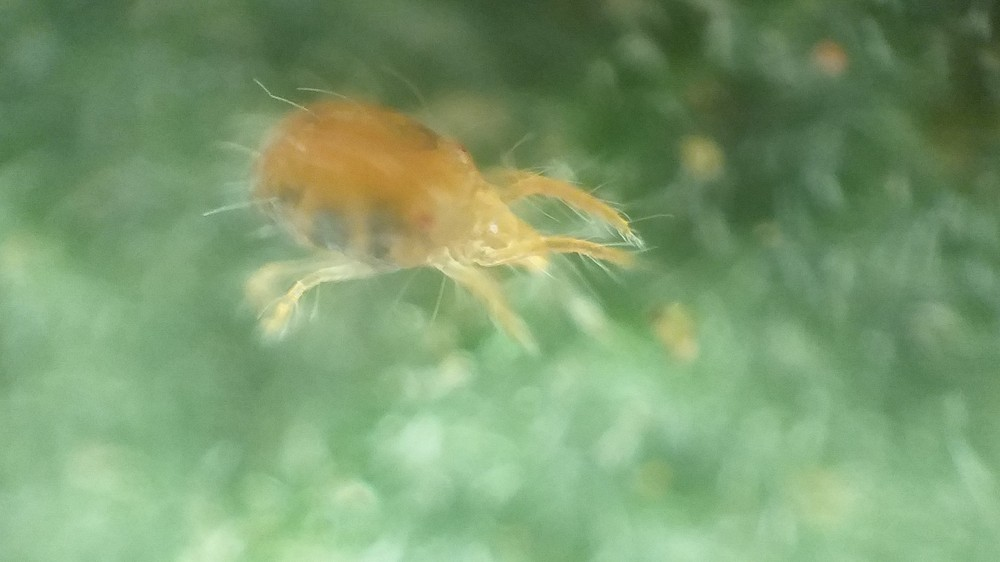Aracnido Rojo: (183, 67, 689, 396)
